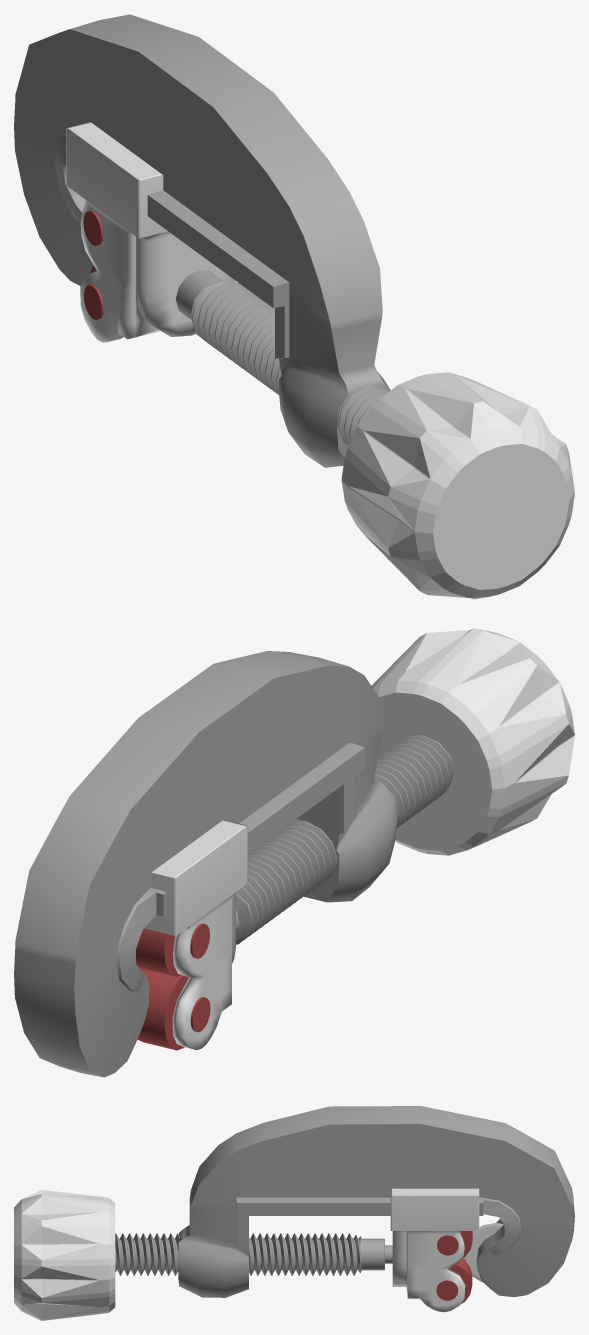
The model's file is tubeCutterSS.fbx.
3 renders of one model, top to bottom at view 1: azimuth 30°, elevation 25°; view 2: azimuth 150°, elevation 25°; view 3: azimuth 270°, elevation 25°, orthographic. The views are drawn at different scales.
Parts seen in each view (by area): view 1: wrenchMLo, handleMLo, truckMLo, threadsMLo; view 2: wrenchMLo, handleMLo, truckMLo, threadsMLo, lowerRollerMLo, upperRollerMLo; view 3: wrenchMLo, handleMLo, truckMLo, threadsMLo, lowerRollerMLo, largeBladeMLo, upperRollerMLo.
Part boxes in pixels (x1,y1,x2,y2): wrenchMLo: (14,14,390,467); handleMLo: (341,372,574,599); truckMLo: (66,122,235,342); threadsMLo: (175,270,388,445); wrenchMLo: (14,651,397,1077); handleMLo: (371,628,574,855); truckMLo: (144,820,248,1049); threadsMLo: (236,735,454,944); lowerRollerMLo: (137,967,210,1050); upperRollerMLo: (136,923,209,976); wrenchMLo: (178,1106,574,1297); handleMLo: (14,1190,115,1320); truckMLo: (390,1188,479,1312); threadsMLo: (115,1233,392,1275); lowerRollerMLo: (436,1258,472,1303); largeBladeMLo: (463,1223,503,1282); upperRollerMLo: (437,1231,472,1258).
Size of the model in its own units: 3 by 5.21 by 13.15.
